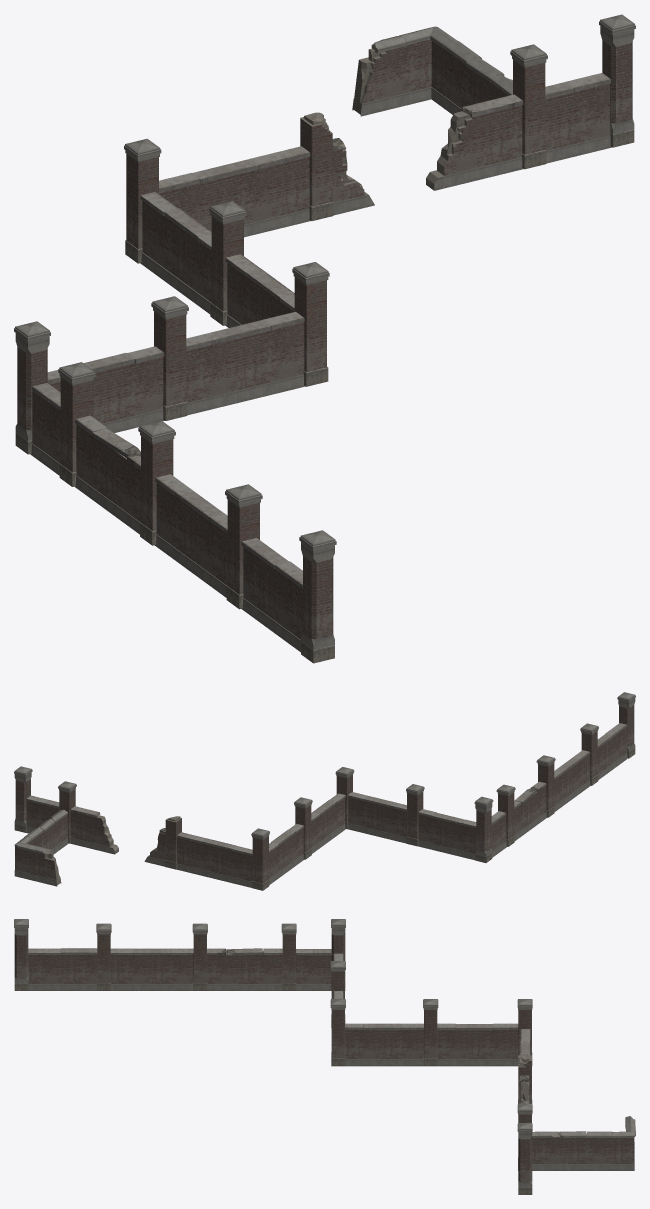
The model's file is Cemetery_STR_OuterWall_01.fbx.
The picture shows the model from 3 angles, top to bottom: view 1: azimuth 30°, elevation 25°; view 2: azimuth 150°, elevation 25°; view 3: azimuth 270°, elevation 25°; orthographic projection. The views are drawn at different scales.
Visible parts, largest first — view 1: Cemetery_STR_OuterWall_01; view 2: Cemetery_STR_OuterWall_01; view 3: Cemetery_STR_OuterWall_01.
Part boxes in pixels (<box>): Cemetery_STR_OuterWall_01: <box>14,14,635,663</box>; Cemetery_STR_OuterWall_01: <box>14,692,635,890</box>; Cemetery_STR_OuterWall_01: <box>14,919,635,1194</box>.
Size of the model in its own units: 2372 by 361 by 2964.
1 material, 1 textured.
